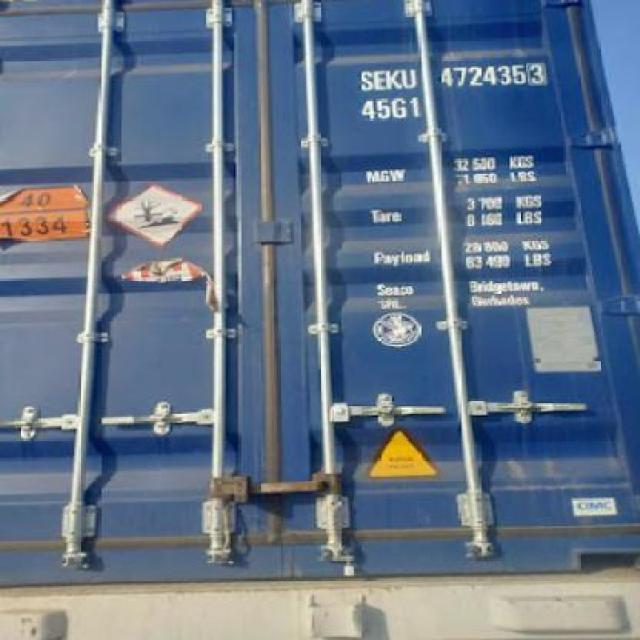ISO: (366, 96, 428, 122)
container_number: (356, 62, 538, 89)
